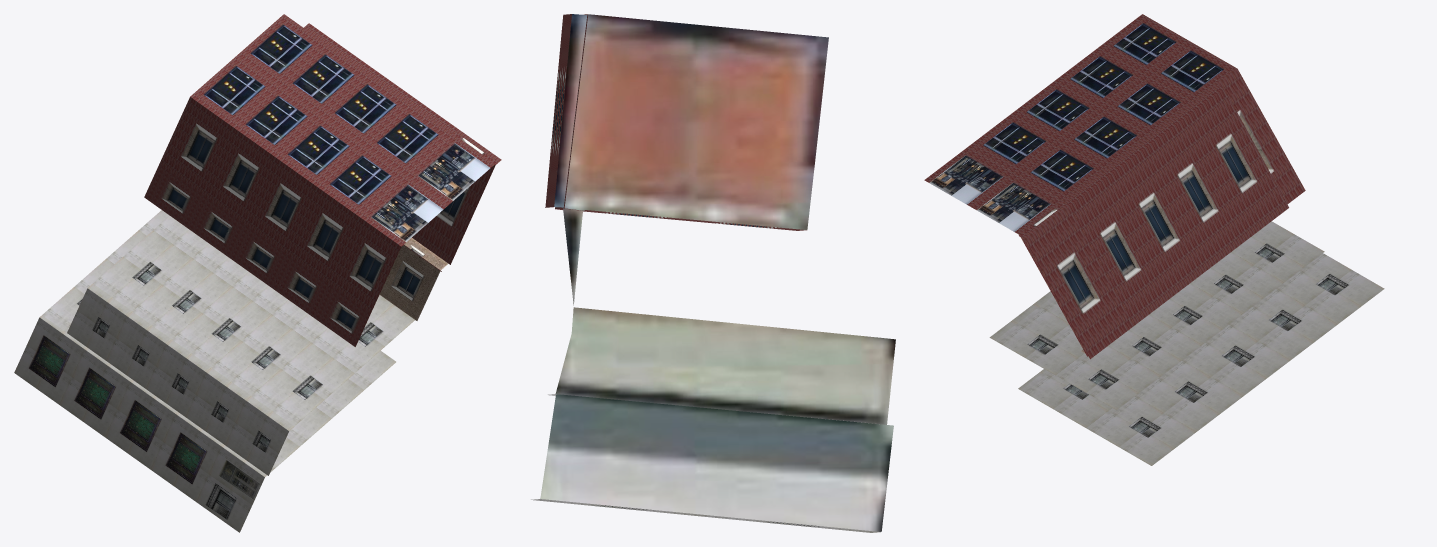
3 views of the same model, side by side, from view 1: azimuth 30°, elevation 25°; view 2: azimuth 150°, elevation 25°; view 3: azimuth 270°, elevation 25° (orthographic). The views are drawn at different scales.
Size of the model in its own units: 25.72 by 28.62 by 28.45.
Materials: 18 (18 with a texture image).
